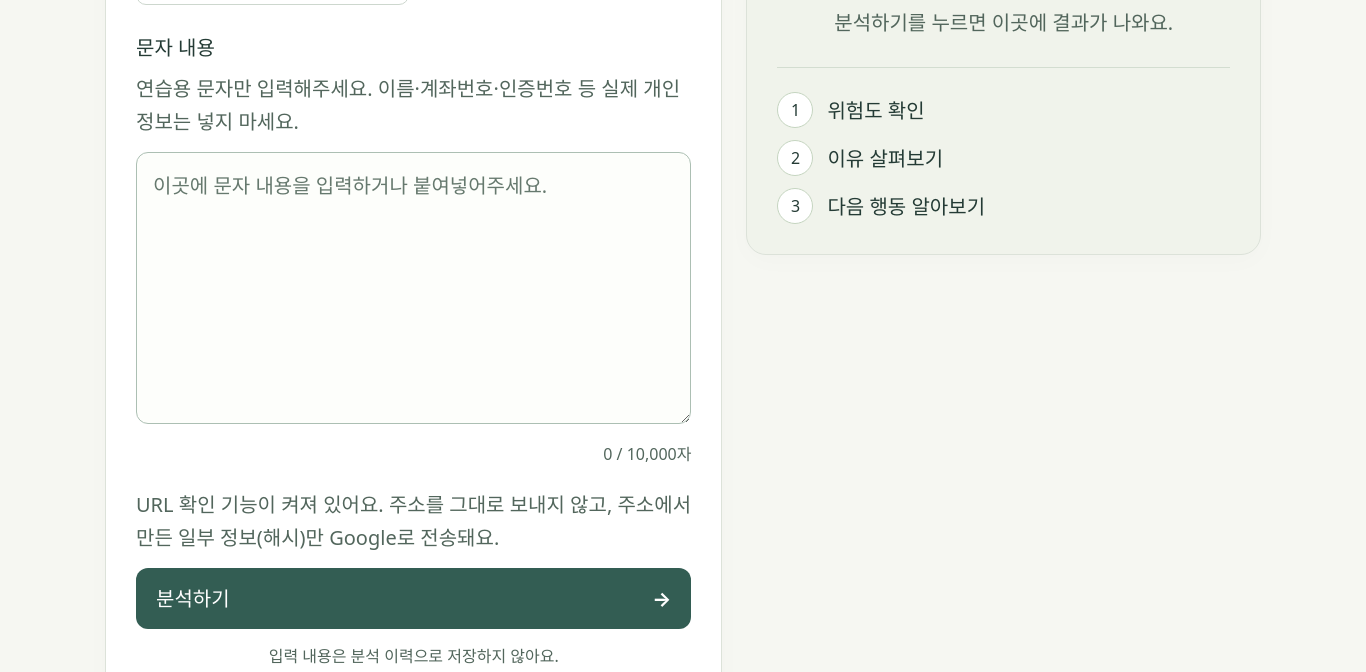
근거의 HTML 형태 문자열을 이미지나 링크로 해석하지 않는다
(page scrolled)
Type "확인할 문자" into the text box at coordinates (414, 288), box [136,152,692,424]
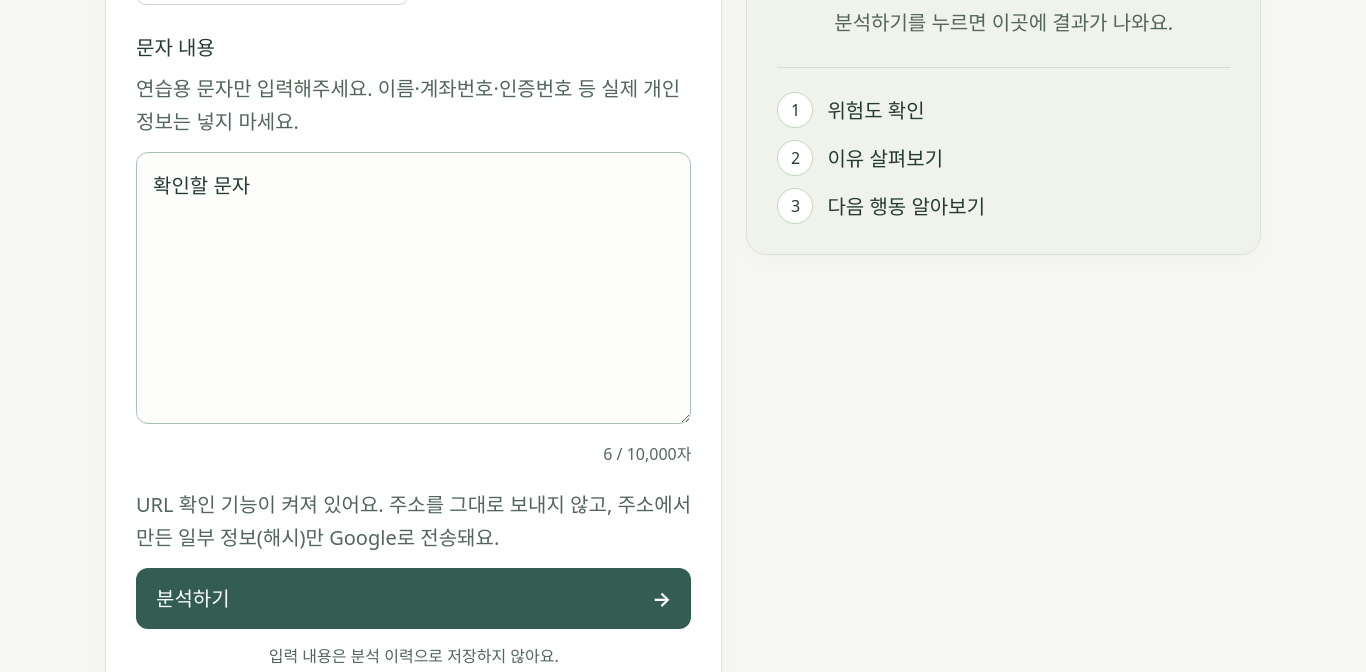
Click the button "분석하기 →" at coordinates (193, 598), box [136,568,692,629]
(page scrolled)
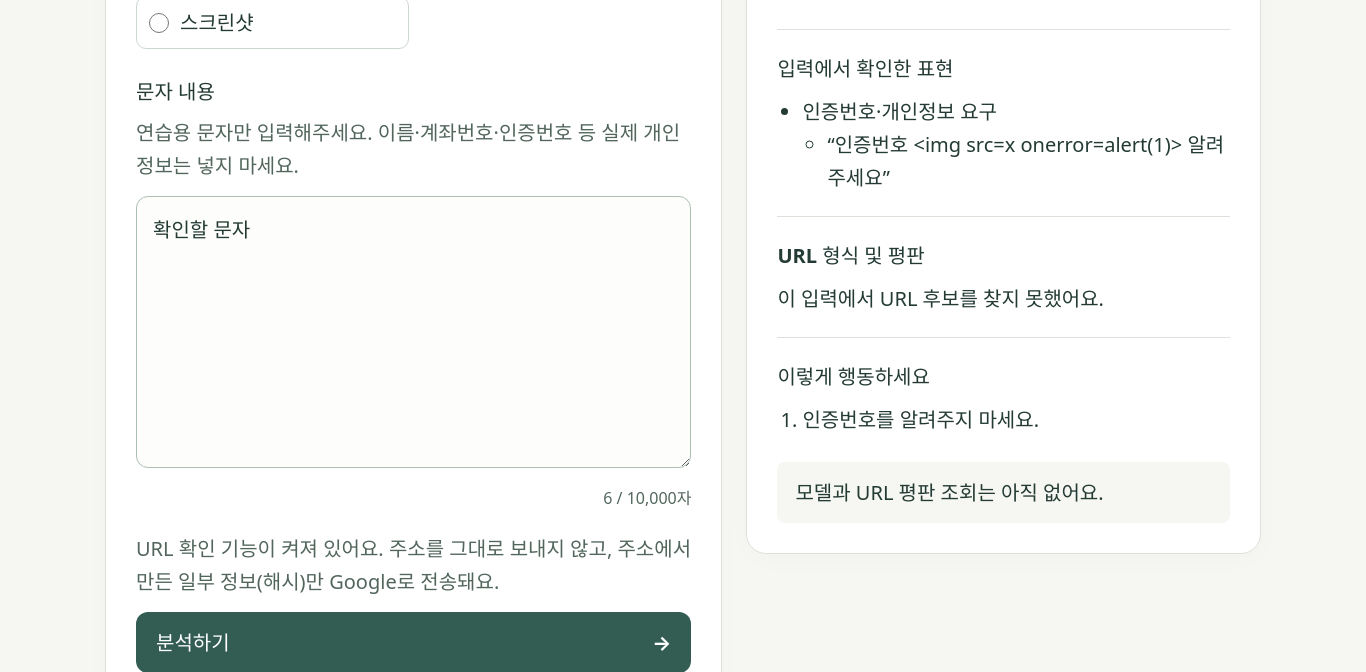
Check: the text "인증번호 <img src=x onerror=alert(1)> 알려주세요" is shown, box [828,131,1224,191]
